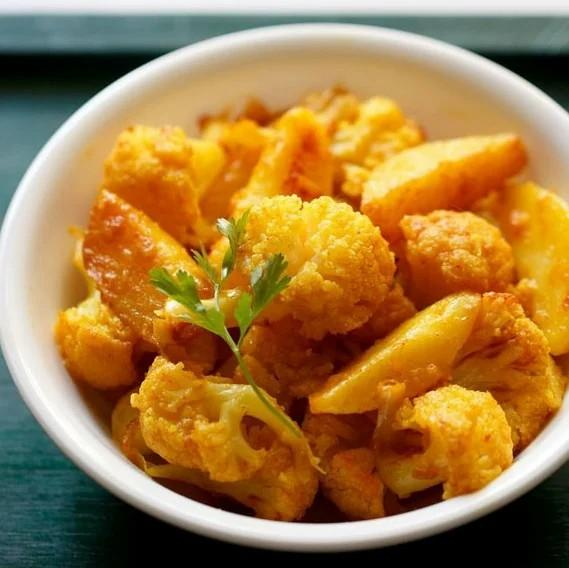AlooGobi: (56, 81, 569, 520)
